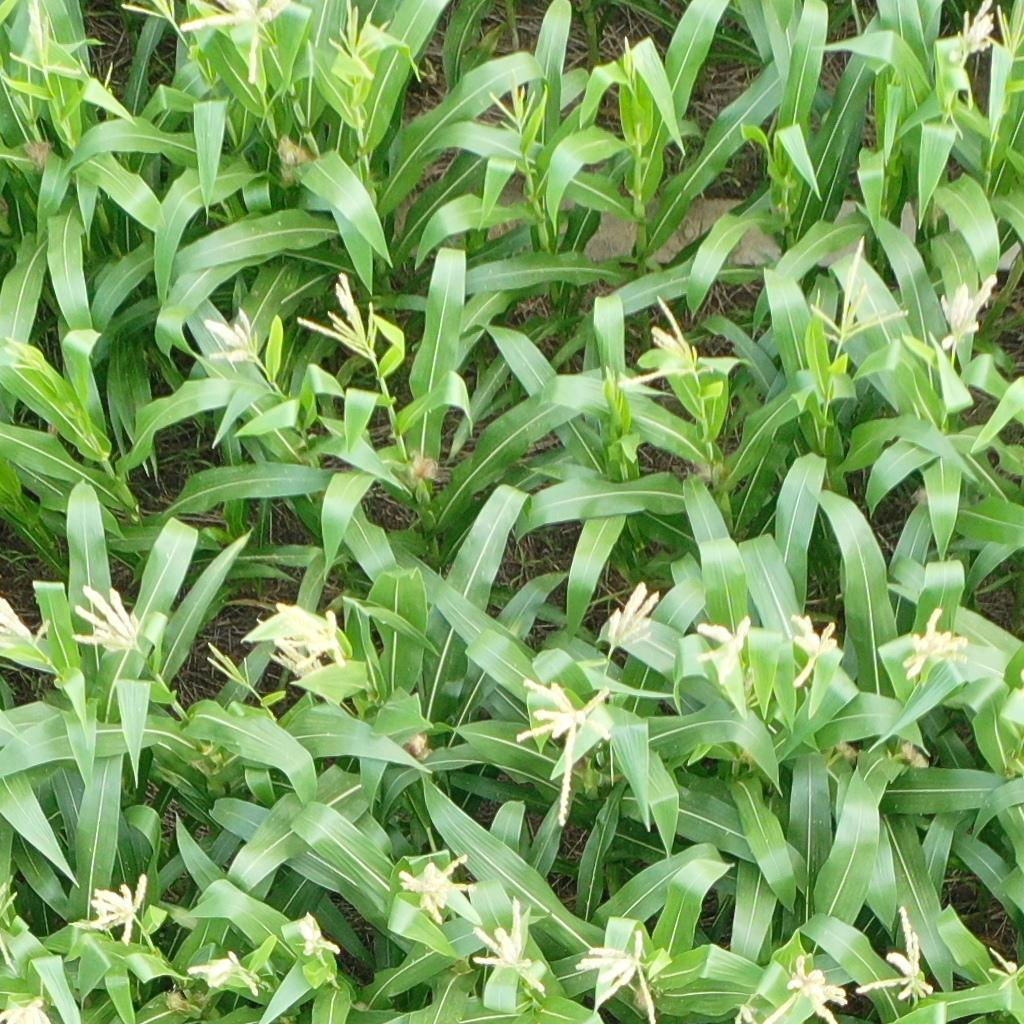Tassel: (517, 678, 613, 832), (810, 235, 910, 347), (600, 294, 715, 390), (180, 1, 283, 89), (853, 905, 938, 1004), (577, 929, 663, 1024), (293, 272, 384, 359), (472, 899, 549, 998), (395, 852, 478, 925), (7, 1, 82, 78), (85, 873, 155, 951), (69, 585, 145, 656), (324, 1, 390, 81), (903, 609, 972, 682), (275, 602, 348, 670), (939, 274, 998, 349), (691, 615, 755, 684), (786, 955, 849, 1024), (184, 947, 267, 995), (789, 613, 839, 691), (488, 66, 542, 138), (607, 580, 660, 653), (203, 306, 263, 368), (1, 597, 55, 652), (258, 639, 323, 680), (206, 636, 251, 689), (955, 1, 994, 58), (295, 911, 341, 959), (990, 1, 1024, 57), (983, 946, 1024, 990), (122, 1, 181, 27), (5, 334, 45, 370), (1, 998, 47, 1024), (620, 35, 638, 80), (1, 881, 19, 923), (733, 1002, 760, 1024)
